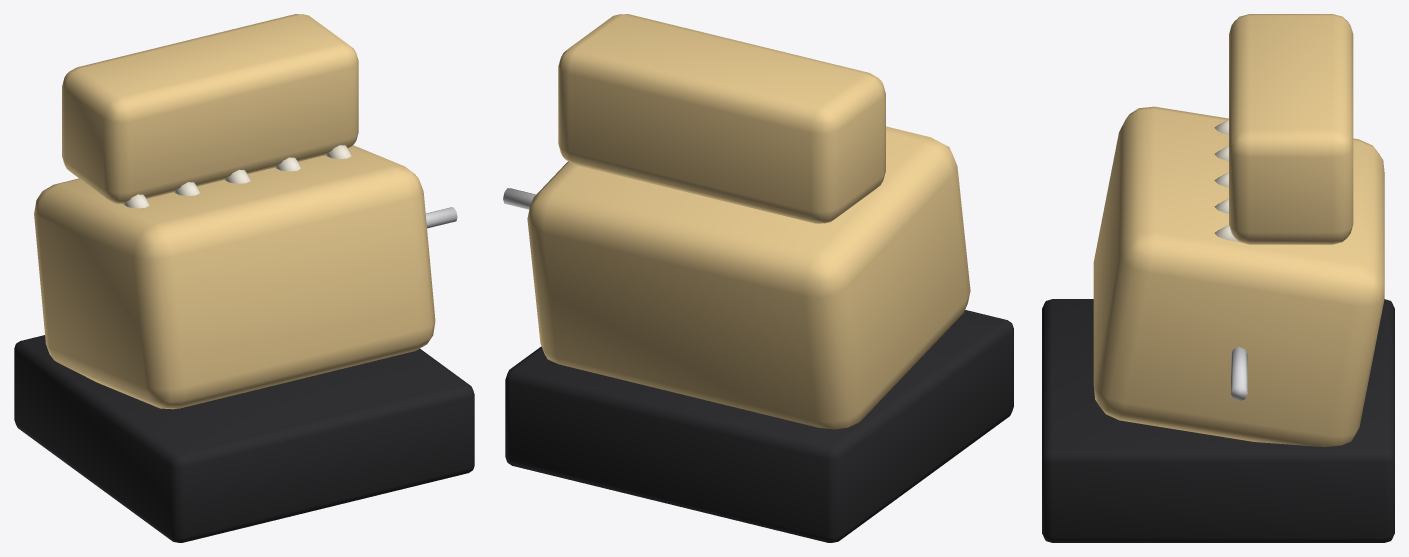
File: v2_cash_register.fbx
The picture shows the model from 3 angles, left to right: view 1: azimuth 30°, elevation 25°; view 2: azimuth 150°, elevation 25°; view 3: azimuth 270°, elevation 25°; orthographic projection. The views are drawn at different scales.
Visible parts, largest first — view 1: RegBody, RegBase, RegTop; view 2: RegBody, RegBase, RegTop; view 3: RegBody, RegBase, RegTop, Crank.
Boxes of the visible parts, left/top/right/bottom form: RegBody: left=34, top=145, right=435, bottom=409; RegBase: left=14, top=335, right=474, bottom=542; RegTop: left=62, top=14, right=358, bottom=203; RegBody: left=527, top=126, right=970, bottom=429; RegBase: left=505, top=310, right=1013, bottom=542; RegTop: left=558, top=14, right=885, bottom=223; RegBody: left=1093, top=106, right=1384, bottom=446; RegBase: left=1042, top=299, right=1394, bottom=542; RegTop: left=1229, top=14, right=1353, bottom=244; Crank: left=1231, top=347, right=1247, bottom=401.
Bounding box in the file's own units: 0.44 × 0.42 × 0.34.
